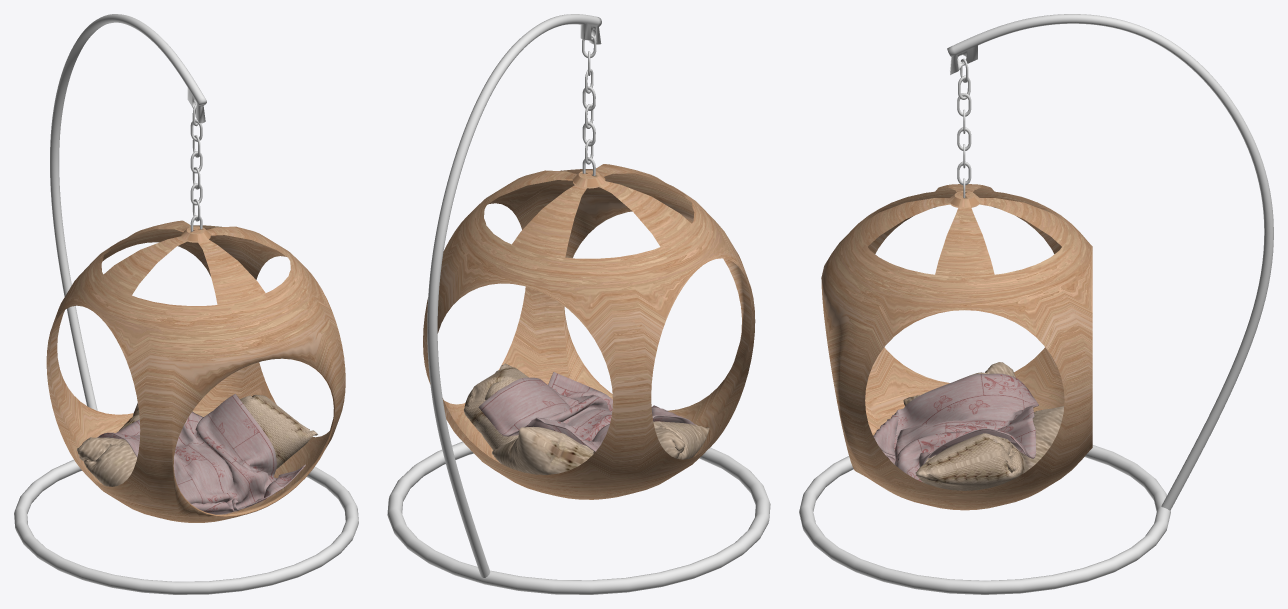
File: swing chair.glb
3 views of the same model, side by side, from view 1: azimuth 30°, elevation 25°; view 2: azimuth 150°, elevation 25°; view 3: azimuth 270°, elevation 25° (orthographic). The views are drawn at different scales.
Visible parts, largest first — view 1: outside Body, Holder, Inside Blanket, Inside Pillow.001, Inside Pillow.002; view 2: outside Body, Holder, Inside Blanket, Inside Pillow.003, Inside Pillow.001, Inside Pillow.002; view 3: outside Body, Holder, Inside Blanket, Inside Pillow.001, Inside Pillow.003.
Boxes of the visible parts, x1=… form: outside Body: x1=46, y1=220, x2=345, y2=522; Holder: x1=14, y1=14, x2=358, y2=594; Inside Blanket: x1=97, y1=394, x2=305, y2=514; Inside Pillow.001: x1=240, y1=394, x2=317, y2=468; Inside Pillow.002: x1=77, y1=437, x2=136, y2=486; outside Body: x1=423, y1=164, x2=755, y2=499; Holder: x1=387, y1=14, x2=770, y2=594; Inside Blanket: x1=478, y1=372, x2=697, y2=451; Inside Pillow.003: x1=492, y1=426, x2=593, y2=474; Inside Pillow.001: x1=464, y1=363, x2=528, y2=450; Inside Pillow.002: x1=593, y1=421, x2=709, y2=459; outside Body: x1=821, y1=184, x2=1092, y2=510; Holder: x1=799, y1=14, x2=1273, y2=594; Inside Blanket: x1=873, y1=373, x2=1038, y2=482; Inside Pillow.001: x1=915, y1=433, x2=1028, y2=490; Inside Pillow.003: x1=1019, y1=406, x2=1064, y2=469.
Size of the model in its own units: 2.08 by 3.11 by 2.66.
4 materials, 3 textured.
